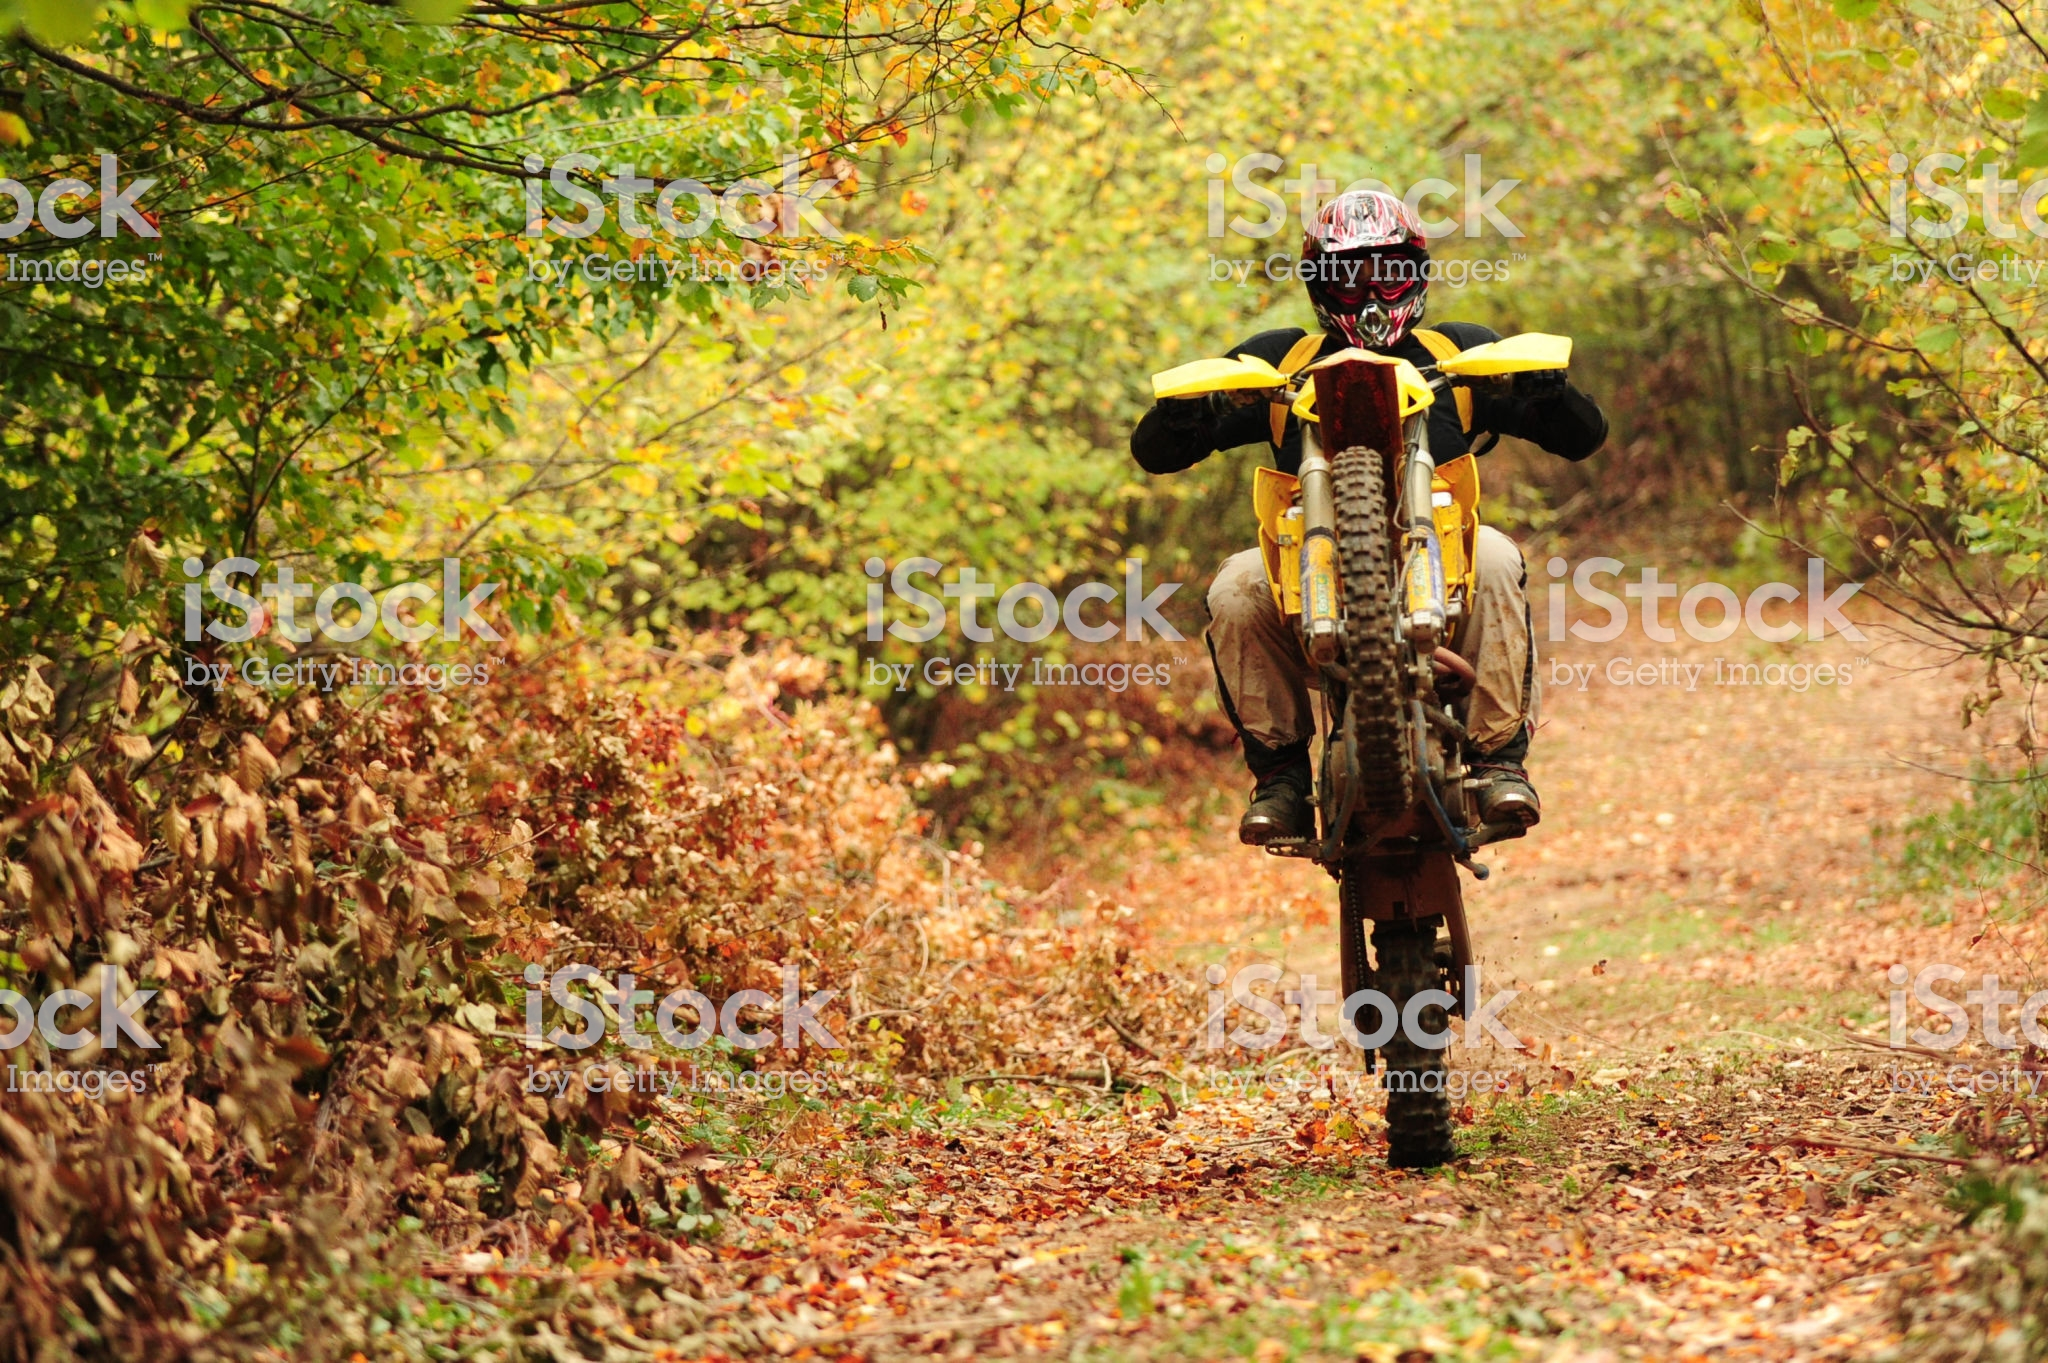helmet: (1289, 189, 1434, 348)
